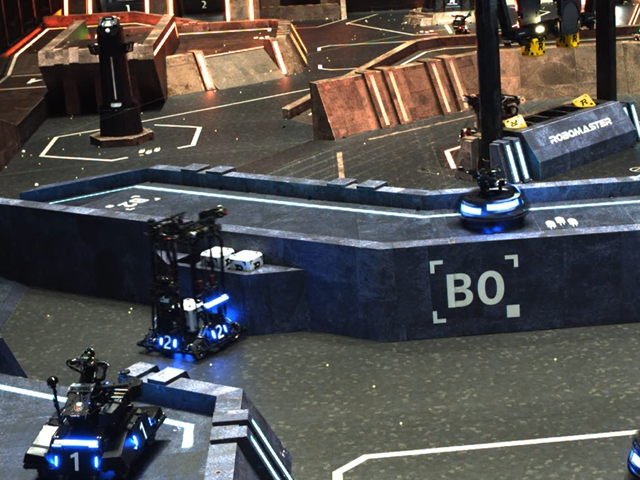rm: (22, 348, 169, 479), (141, 205, 247, 365), (453, 157, 533, 233), (448, 12, 471, 35)
